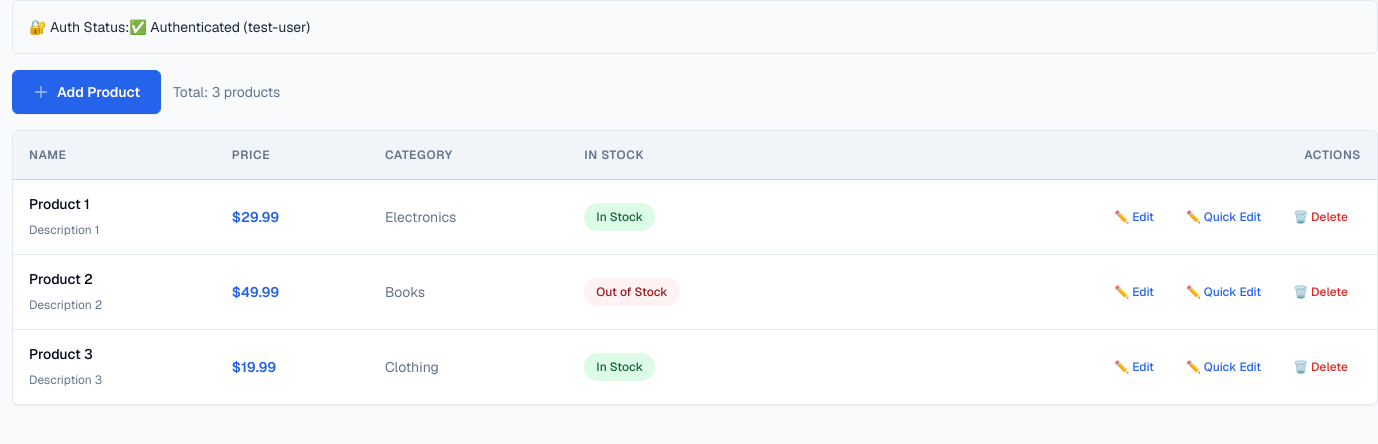
Test: ProductList Component › Quick Edit (Inline) › should cancel inline edit when Cancel is clicked
expect the text "Product 1" is shown: met, box x1=29 y1=195 x2=90 y2=213
What coordinates should you click on to do the following:
click the button "✏️ Quick Edit" in the row of "Product 1"
I would click on:
 (1224, 217)
Its box is x1=1173 y1=200 x2=1274 y2=234.
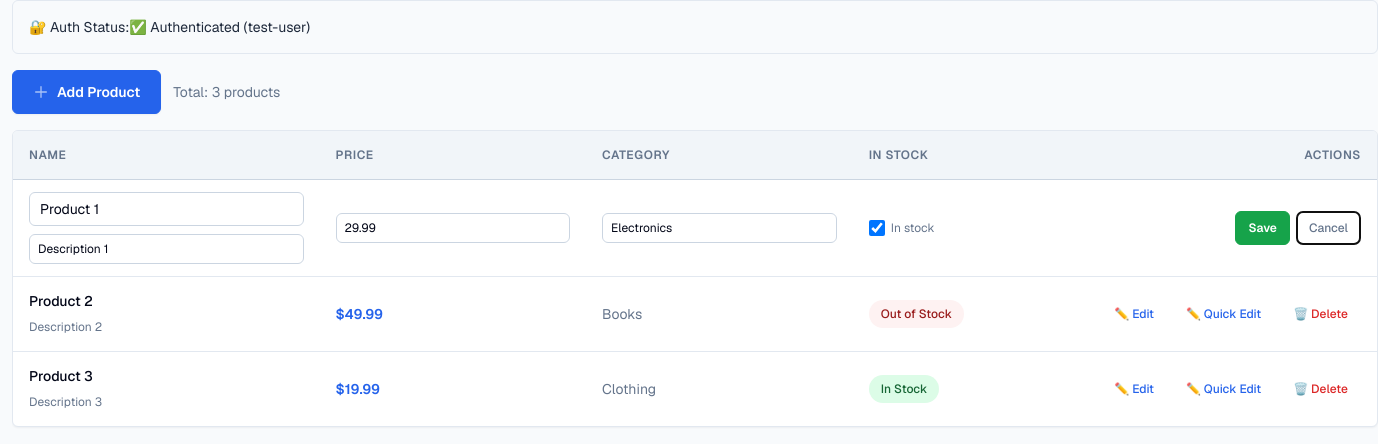
expect the 1st field showing "Product 1" is shown: met, box x1=29 y1=192 x2=304 y2=226
What coordinates should you click on to do the following:
click the button "Cancel"
I would click on:
 (1328, 228)
Its box is x1=1296 y1=211 x2=1361 y2=245.
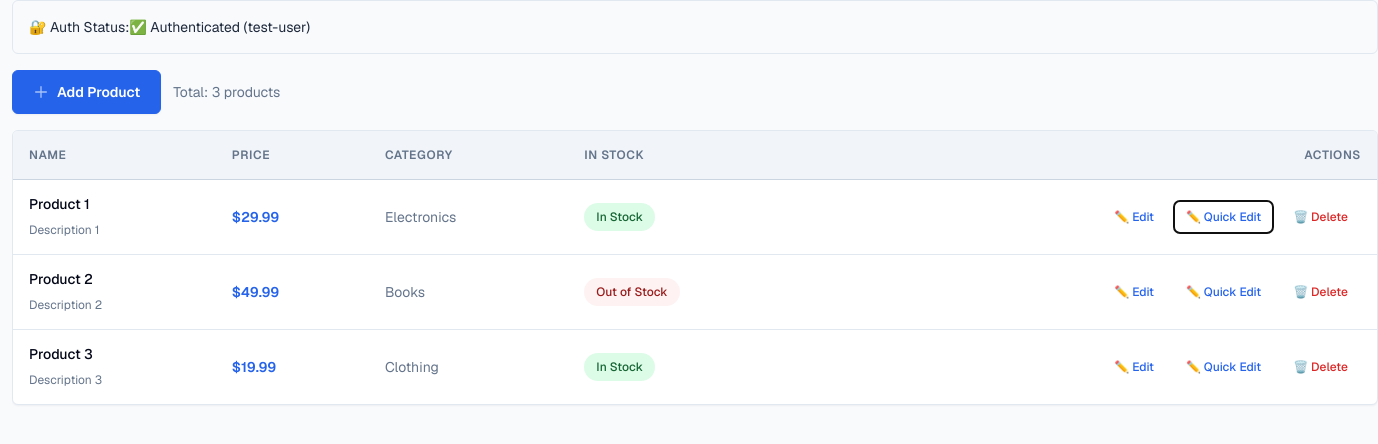
expect the text "Product 1" is shown: met, box x1=29 y1=195 x2=90 y2=213
